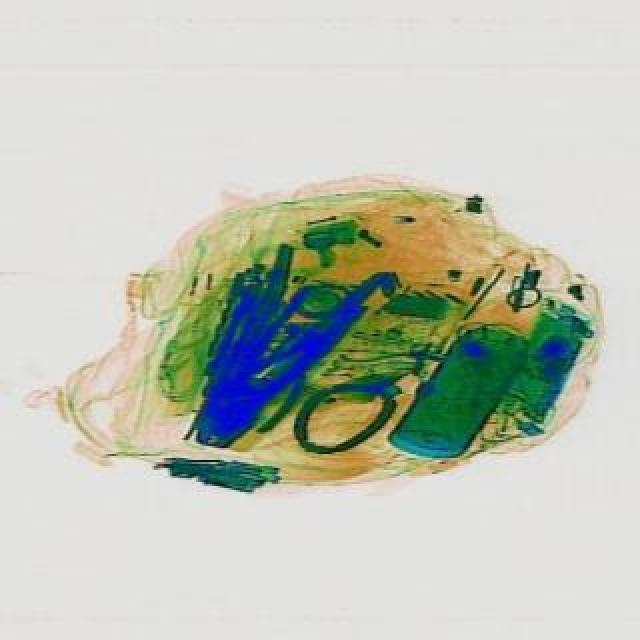wrench: (160, 218, 390, 472), (220, 310, 340, 438)
